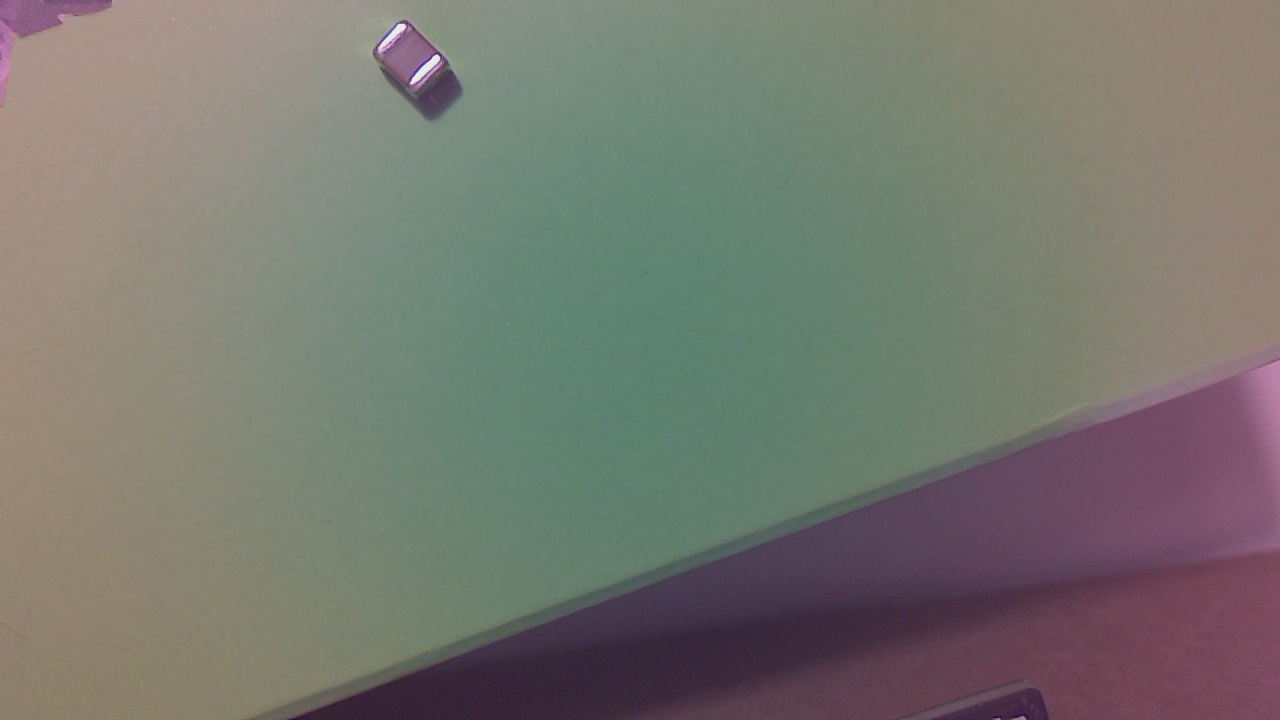Condensator: (378, 23, 459, 106)
